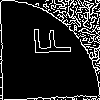F: (24, 25, 71, 57)
